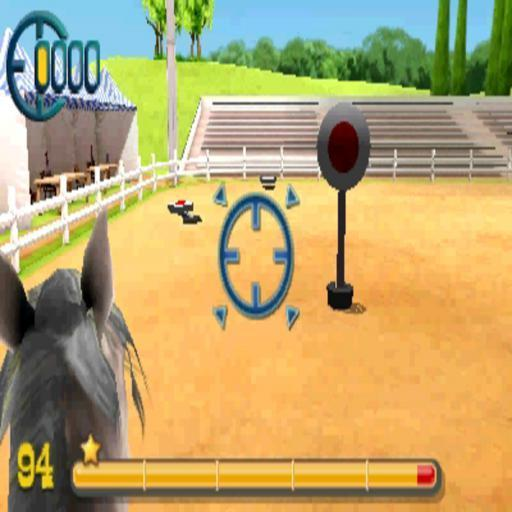horse: (0, 198, 154, 510)
